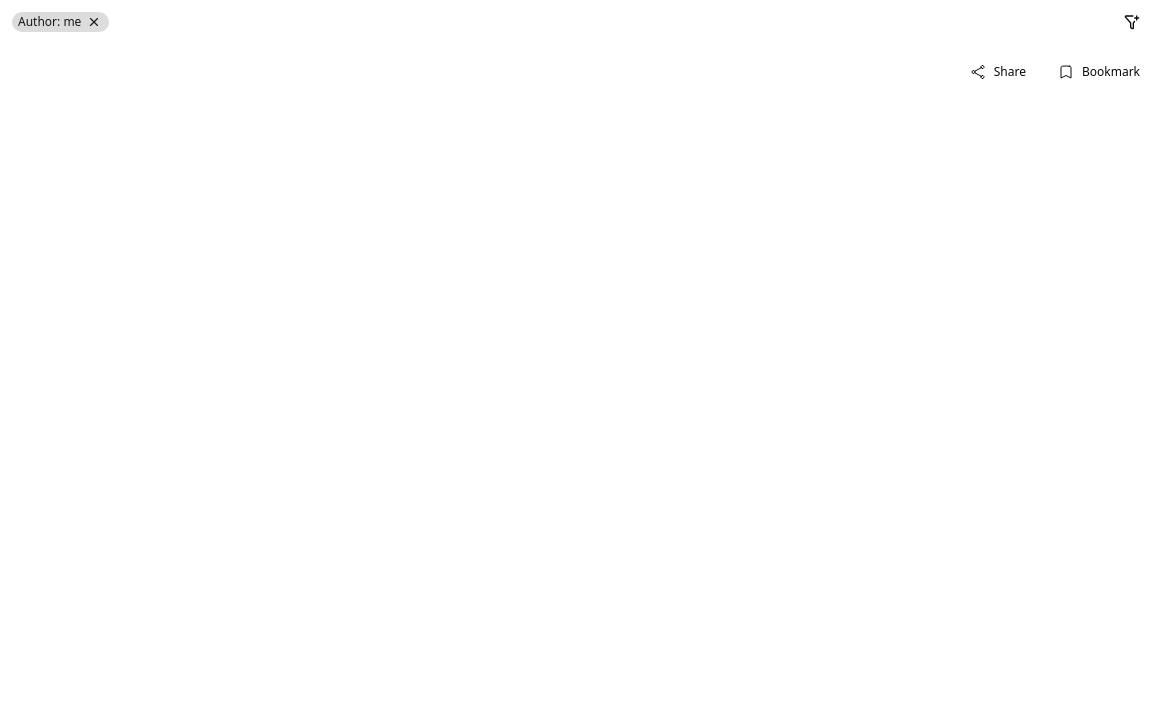
Test: QueryDisplay additional coverage › switches between advanced and visual modes
This screenshot has width=1152, height=720.
Click the 2nd button.
click(1132, 22)  # box [1112, 6, 1151, 38]
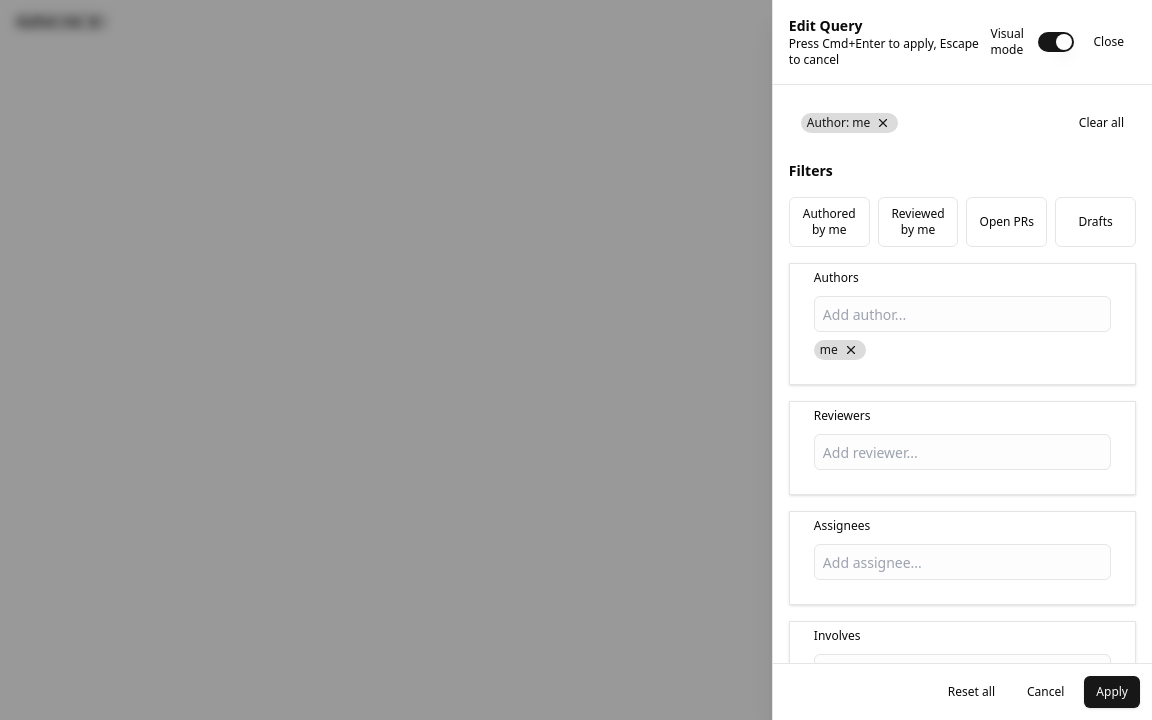
Now the heading "Filters" is shown, box [789, 161, 833, 181]
// Toggle to Advanced
Click the switch.
click(1056, 42)  # box [1038, 32, 1074, 52]
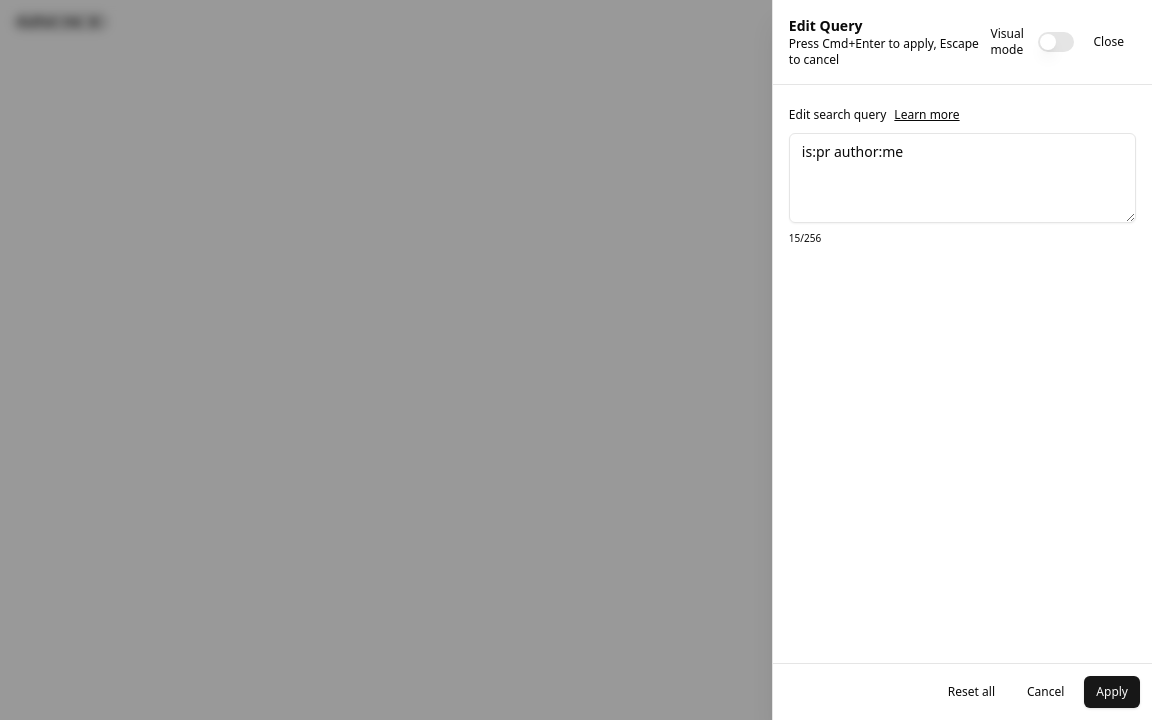
Now the text box labelled "Edit search query" is shown, box [789, 133, 1136, 223]
